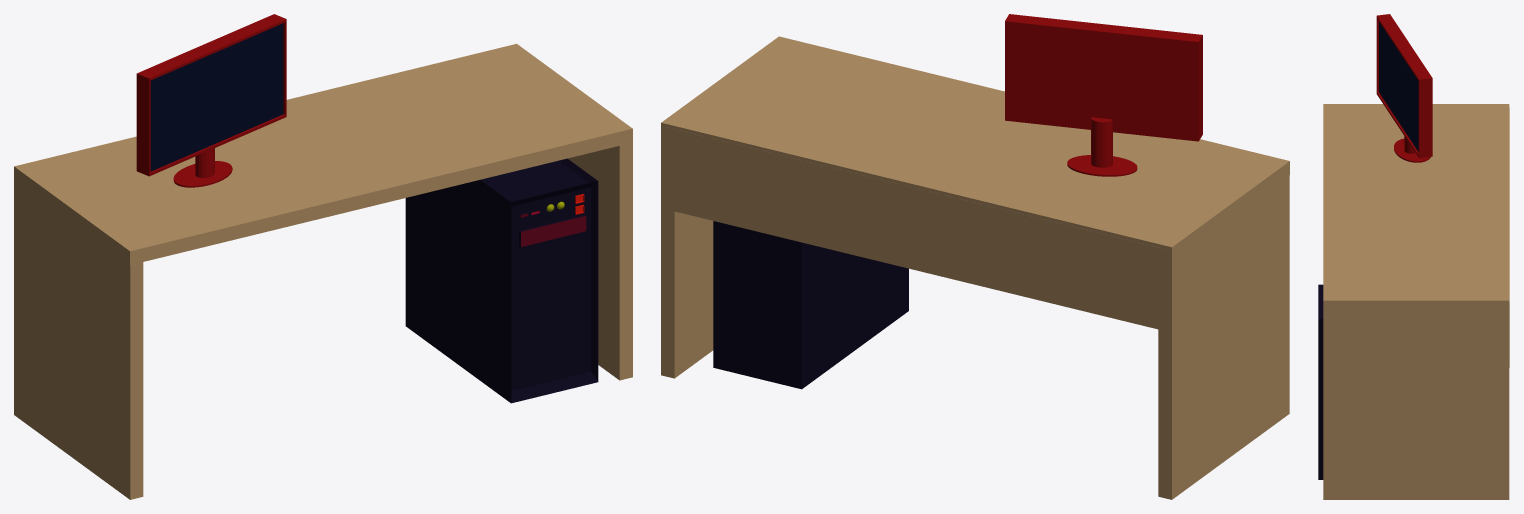
Rendered from from_unity.fbx.
3 views of the same model, side by side, from view 1: azimuth 30°, elevation 25°; view 2: azimuth 150°, elevation 25°; view 3: azimuth 270°, elevation 25° (orthographic). The views are drawn at different scales.
Visible parts, largest first — view 1: Cube.003, Куб, Цилиндр.001, Цилиндр, Куб.001; view 2: Cube.003, Куб, Цилиндр; view 3: Cube.003, Цилиндр, Цилиндр.001, Куб.
Boxes of the visible parts, <box> form: Cube.003: <box>14,43,632,499</box>; Куб: <box>405,158,598,403</box>; Цилиндр.001: <box>150,23,283,171</box>; Цилиндр: <box>136,14,286,187</box>; Куб.001: <box>520,194,586,246</box>; Cube.003: <box>661,36,1289,499</box>; Куб: <box>713,221,908,389</box>; Цилиндр: <box>1005,14,1202,176</box>; Cube.003: <box>1323,104,1509,499</box>; Цилиндр: <box>1376,14,1432,162</box>; Цилиндр.001: <box>1379,22,1418,151</box>; Куб: <box>1318,284,1323,479</box>.
Size of the model in its own units: 551 by 402 by 226.
